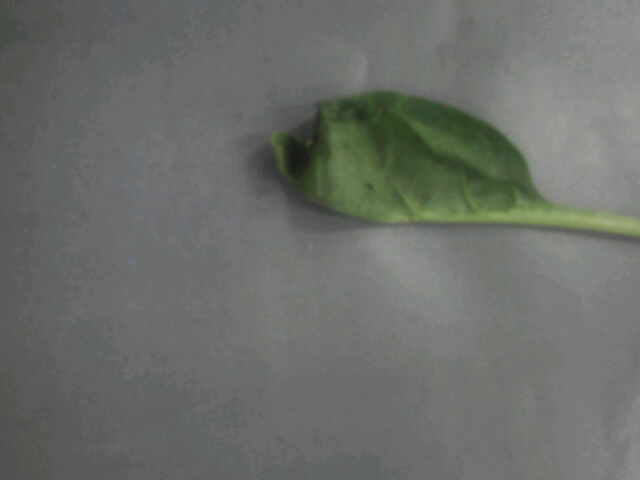yellow: (218, 88, 596, 249)
